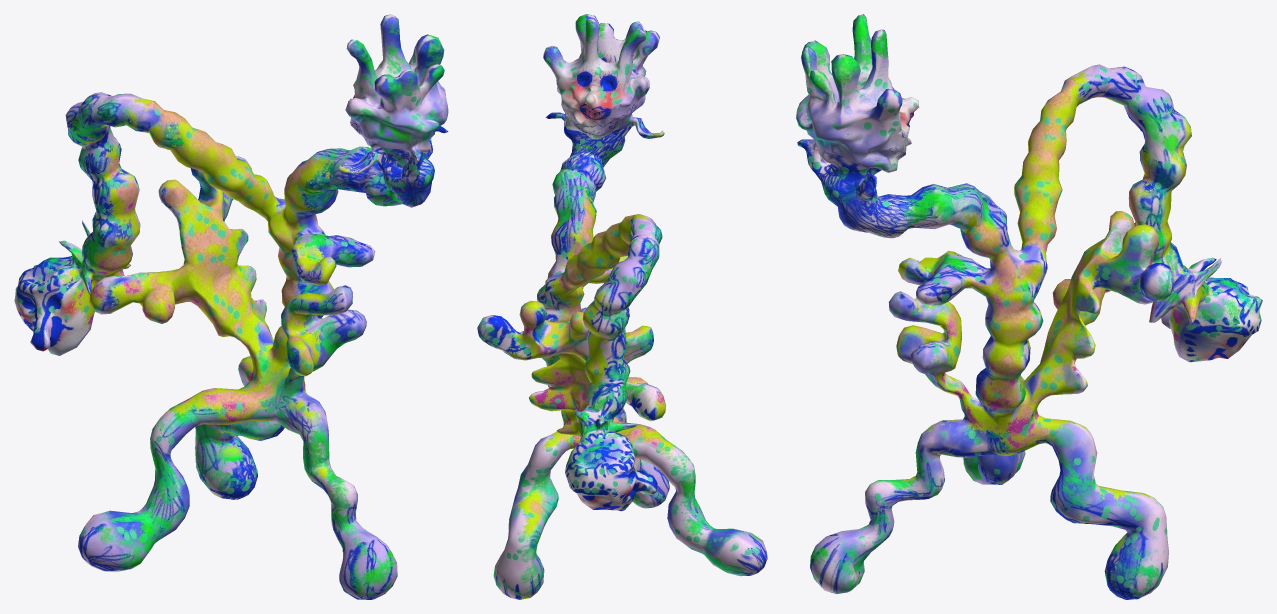
Rendered from shr-two-heads.glb.
3 renders of one model, left to right at view 1: azimuth 30°, elevation 25°; view 2: azimuth 150°, elevation 25°; view 3: azimuth 270°, elevation 25°, orthographic. The views are drawn at different scales.
Parts seen in each view (by area): view 1: geometry_0; view 2: geometry_0; view 3: geometry_0.
Part boxes in pixels (x1,y1,x2,y2): geometry_0: [14, 14, 448, 599]; geometry_0: [477, 14, 767, 599]; geometry_0: [796, 14, 1262, 599].
Bounding box in the file's own units: 0.576 × 1 × 0.7218.
1 material, 1 textured.
